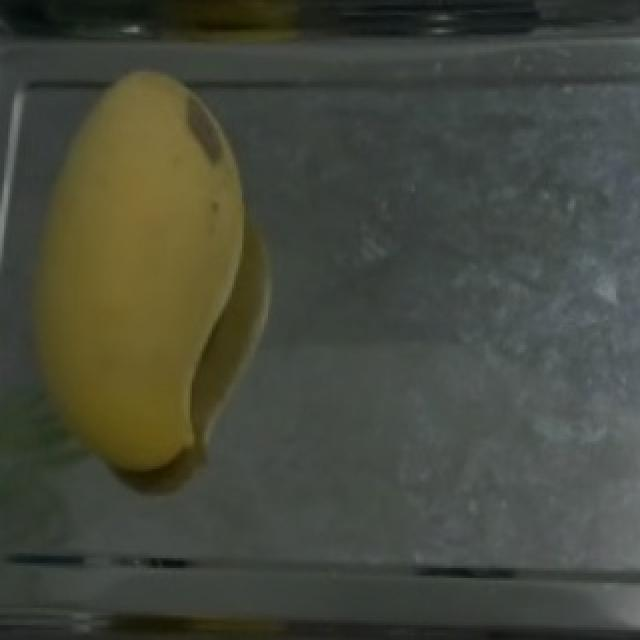fruit: (16, 50, 272, 409)
